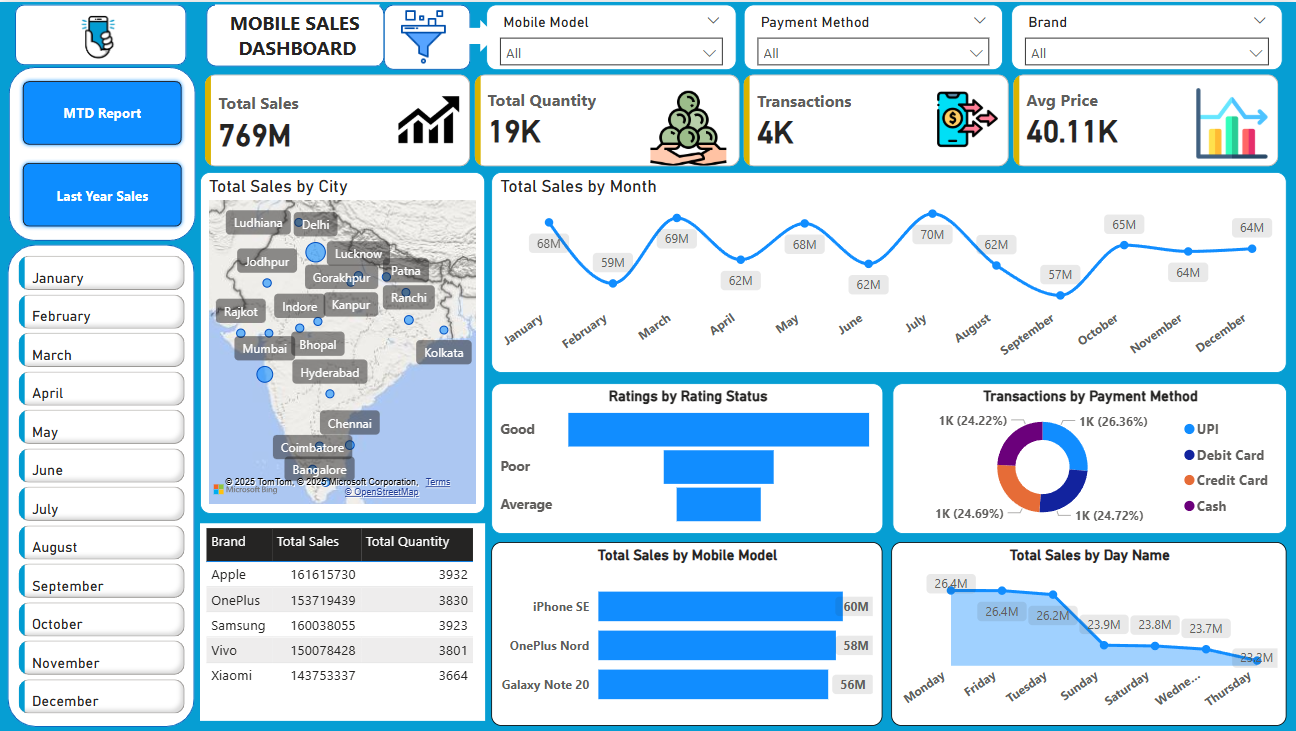

The page's visual inventory and layout, read from the dashboard file:
{"tool":"powerbi","page":{"name":"Dashboard","canvas":[1280,720],"ordinal":0},"visuals":[{"type":"shape","box":[9,64.1,184.6,171.8],"z":0},{"type":"shape","box":[7.8,239.3,184.8,476.4],"z":1000},{"type":"advancedSlicerVisual","fields":{"Values":["Custom_calendar.Date.Variation.Date Hierarchy.Month"]},"box":[13.4,246,174.8,463.1],"z":2000},{"type":"cardVisual","fields":{"Data":["Mobile_Sales_Data.Total Sales","Mobile_Sales_Data.Total Quantity","Mobile_Sales_Data.Transactions","Mobile_Sales_Data.Avg Price"]},"box":[198.1,66.8,1072,101.3],"z":3000},{"type":"slicer","fields":{"Values":["Mobile_Sales_Data.Mobile Model"]},"box":[479.8,2.2,247.1,64.6],"z":4000},{"type":"slicer","fields":{"Values":["Mobile_Sales_Data.Payment Method"]},"box":[734.7,2.2,256,64.6],"z":5000},{"type":"slicer","fields":{"Values":["Mobile_Sales_Data.Brand"]},"box":[998.5,2.2,268.3,64.6],"z":6000},{"type":"shape","box":[379.6,2.2,85.7,64.6],"z":7000},{"type":"image","box":[379.6,2.2,77.9,64.6],"z":8000},{"type":"shape","box":[446.4,17.8,43.4,32.3],"z":9000},{"type":"shape","box":[203.7,2.2,175.9,61.2],"z":10000},{"type":"textbox","box":[212.6,2.2,162.5,60.1],"z":11000},{"type":"map","fields":{"Category":["Mobile_Sales_Data.City"],"Size":["Mobile_Sales_Data.Total Sales"]},"box":[198.1,168.1,281.6,337.3],"z":12000},{"type":"lineChart","fields":{"Y":["Mobile_Sales_Data.Total Sales"],"Category":["Custom_calendar.Date.Variation.Date Hierarchy.Month"]},"box":[485.3,168.1,785.9,198.1],"z":13000},{"type":"funnel","title":"Ratings by Rating Status","fields":{"Y":["CountNonNull(Mobile_Sales_Data.Customer Ratings)"],"Category":["Mobile_Sales_Data.Rating"]},"box":[485.3,376.3,387.4,149.2],"z":14000},{"type":"donutChart","fields":{"Y":["Mobile_Sales_Data.Transactions"],"Category":["Mobile_Sales_Data.Payment Method"]},"box":[881.6,376.3,389.6,149.2],"z":15000},{"type":"clusteredBarChart","fields":{"Y":["Mobile_Sales_Data.Total Sales"],"Category":["Mobile_Sales_Data.Mobile Model"]},"box":[485.3,533.2,386.3,181.4],"z":16000},{"type":"areaChart","fields":{"Category":["Custom_calendar.Day Name"],"Y":["Mobile_Sales_Data.Total Sales"]},"box":[880.5,533.2,390.7,181.4],"z":17000},{"type":"tableEx","fields":{"Values":["Mobile_Sales_Data.Brand","Mobile_Sales_Data.Total Sales","Mobile_Sales_Data.Total Quantity"]},"box":[198.1,514.3,281.6,194.8],"z":18000},{"type":"pageNavigator","box":[18.7,74.7,165.3,152],"z":19000},{"type":"shape","box":[14.7,2.7,169.3,60],"z":20000},{"type":"image","box":[9.3,2.7,174.7,64],"z":21000}]}

Visuals, with their boxes in screenshot pixels (x1, y1, x2, y2), scaled from the page's 1280x720 canvas onto the 1296x731 screenshot:
shape: 9,65,196,240
shape: 8,243,195,727
advancedSlicerVisual - Custom_calendar.Date.Variation.Date Hierarchy.Month: 14,250,191,720
cardVisual - Mobile_Sales_Data.Total Sales x Mobile_Sales_Data.Total Quantity: 201,68,1286,171
slicer - Mobile_Sales_Data.Mobile Model: 486,2,736,68
slicer - Mobile_Sales_Data.Payment Method: 744,2,1003,68
slicer - Mobile_Sales_Data.Brand: 1011,2,1283,68
shape: 384,2,471,68
image: 384,2,463,68
shape: 452,18,496,51
shape: 206,2,384,64
textbox: 215,2,380,63
map - Mobile_Sales_Data.City x Mobile_Sales_Data.Total Sales: 201,171,486,513
lineChart - Mobile_Sales_Data.Total Sales x Custom_calendar.Date.Variation.Date Hierarchy.Month: 491,171,1287,372
"Ratings by Rating Status" funnel: 491,382,884,534
donutChart - Mobile_Sales_Data.Transactions x Mobile_Sales_Data.Payment Method: 893,382,1287,534
clusteredBarChart - Mobile_Sales_Data.Total Sales x Mobile_Sales_Data.Mobile Model: 491,541,882,726
areaChart - Custom_calendar.Day Name x Mobile_Sales_Data.Total Sales: 892,541,1287,726
tableEx - Mobile_Sales_Data.Brand x Mobile_Sales_Data.Total Sales: 201,522,486,720
pageNavigator: 19,76,186,230
shape: 15,3,186,64
image: 9,3,186,68
